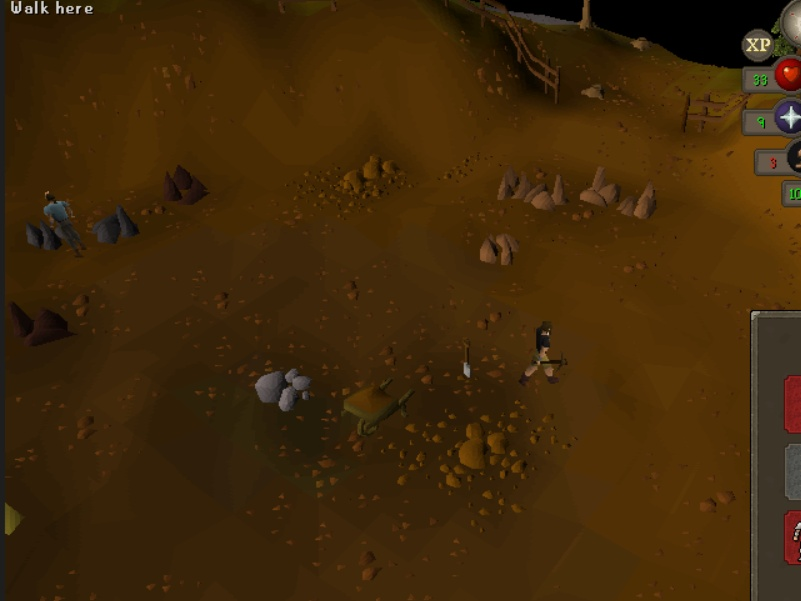copper: (614, 177, 668, 222), (523, 166, 567, 214), (475, 230, 526, 269), (580, 163, 622, 210), (493, 165, 528, 203)
iron: (2, 285, 80, 355), (159, 153, 214, 211)
